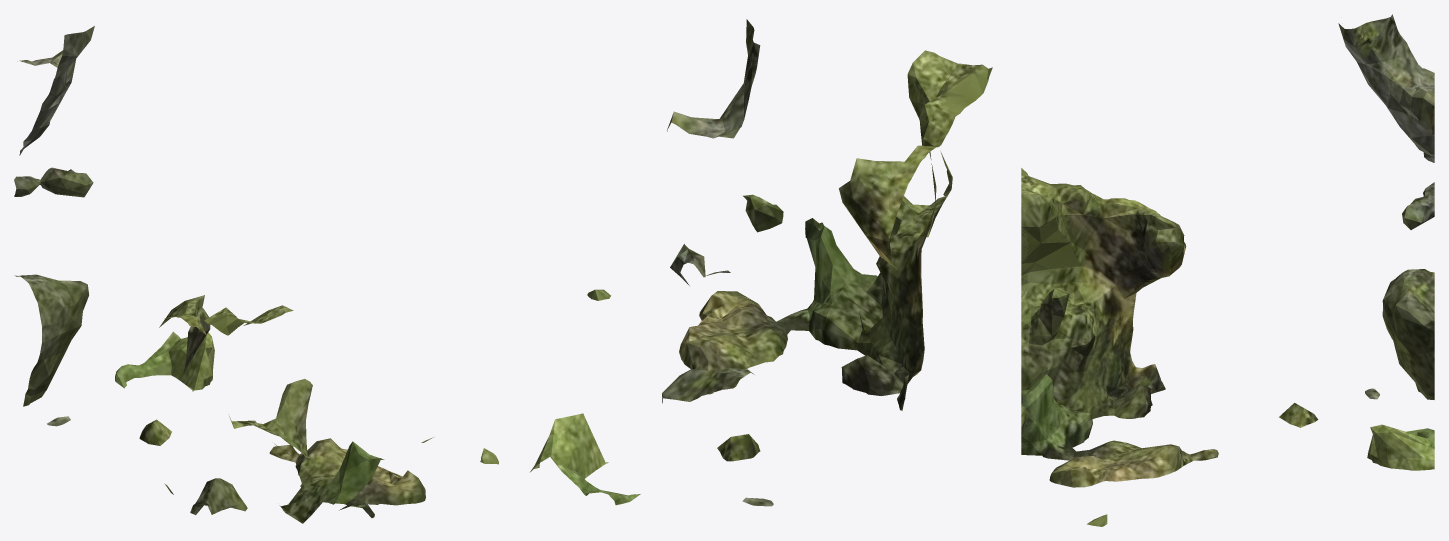
The picture shows the model from 3 angles, left to right: view 1: azimuth 30°, elevation 25°; view 2: azimuth 150°, elevation 25°; view 3: azimuth 270°, elevation 25°; orthographic projection. The views are drawn at different scales.
Size of the model in its own units: 4.67 by 5.9 by 5.9.
Materials: 2 (2 with a texture image).
